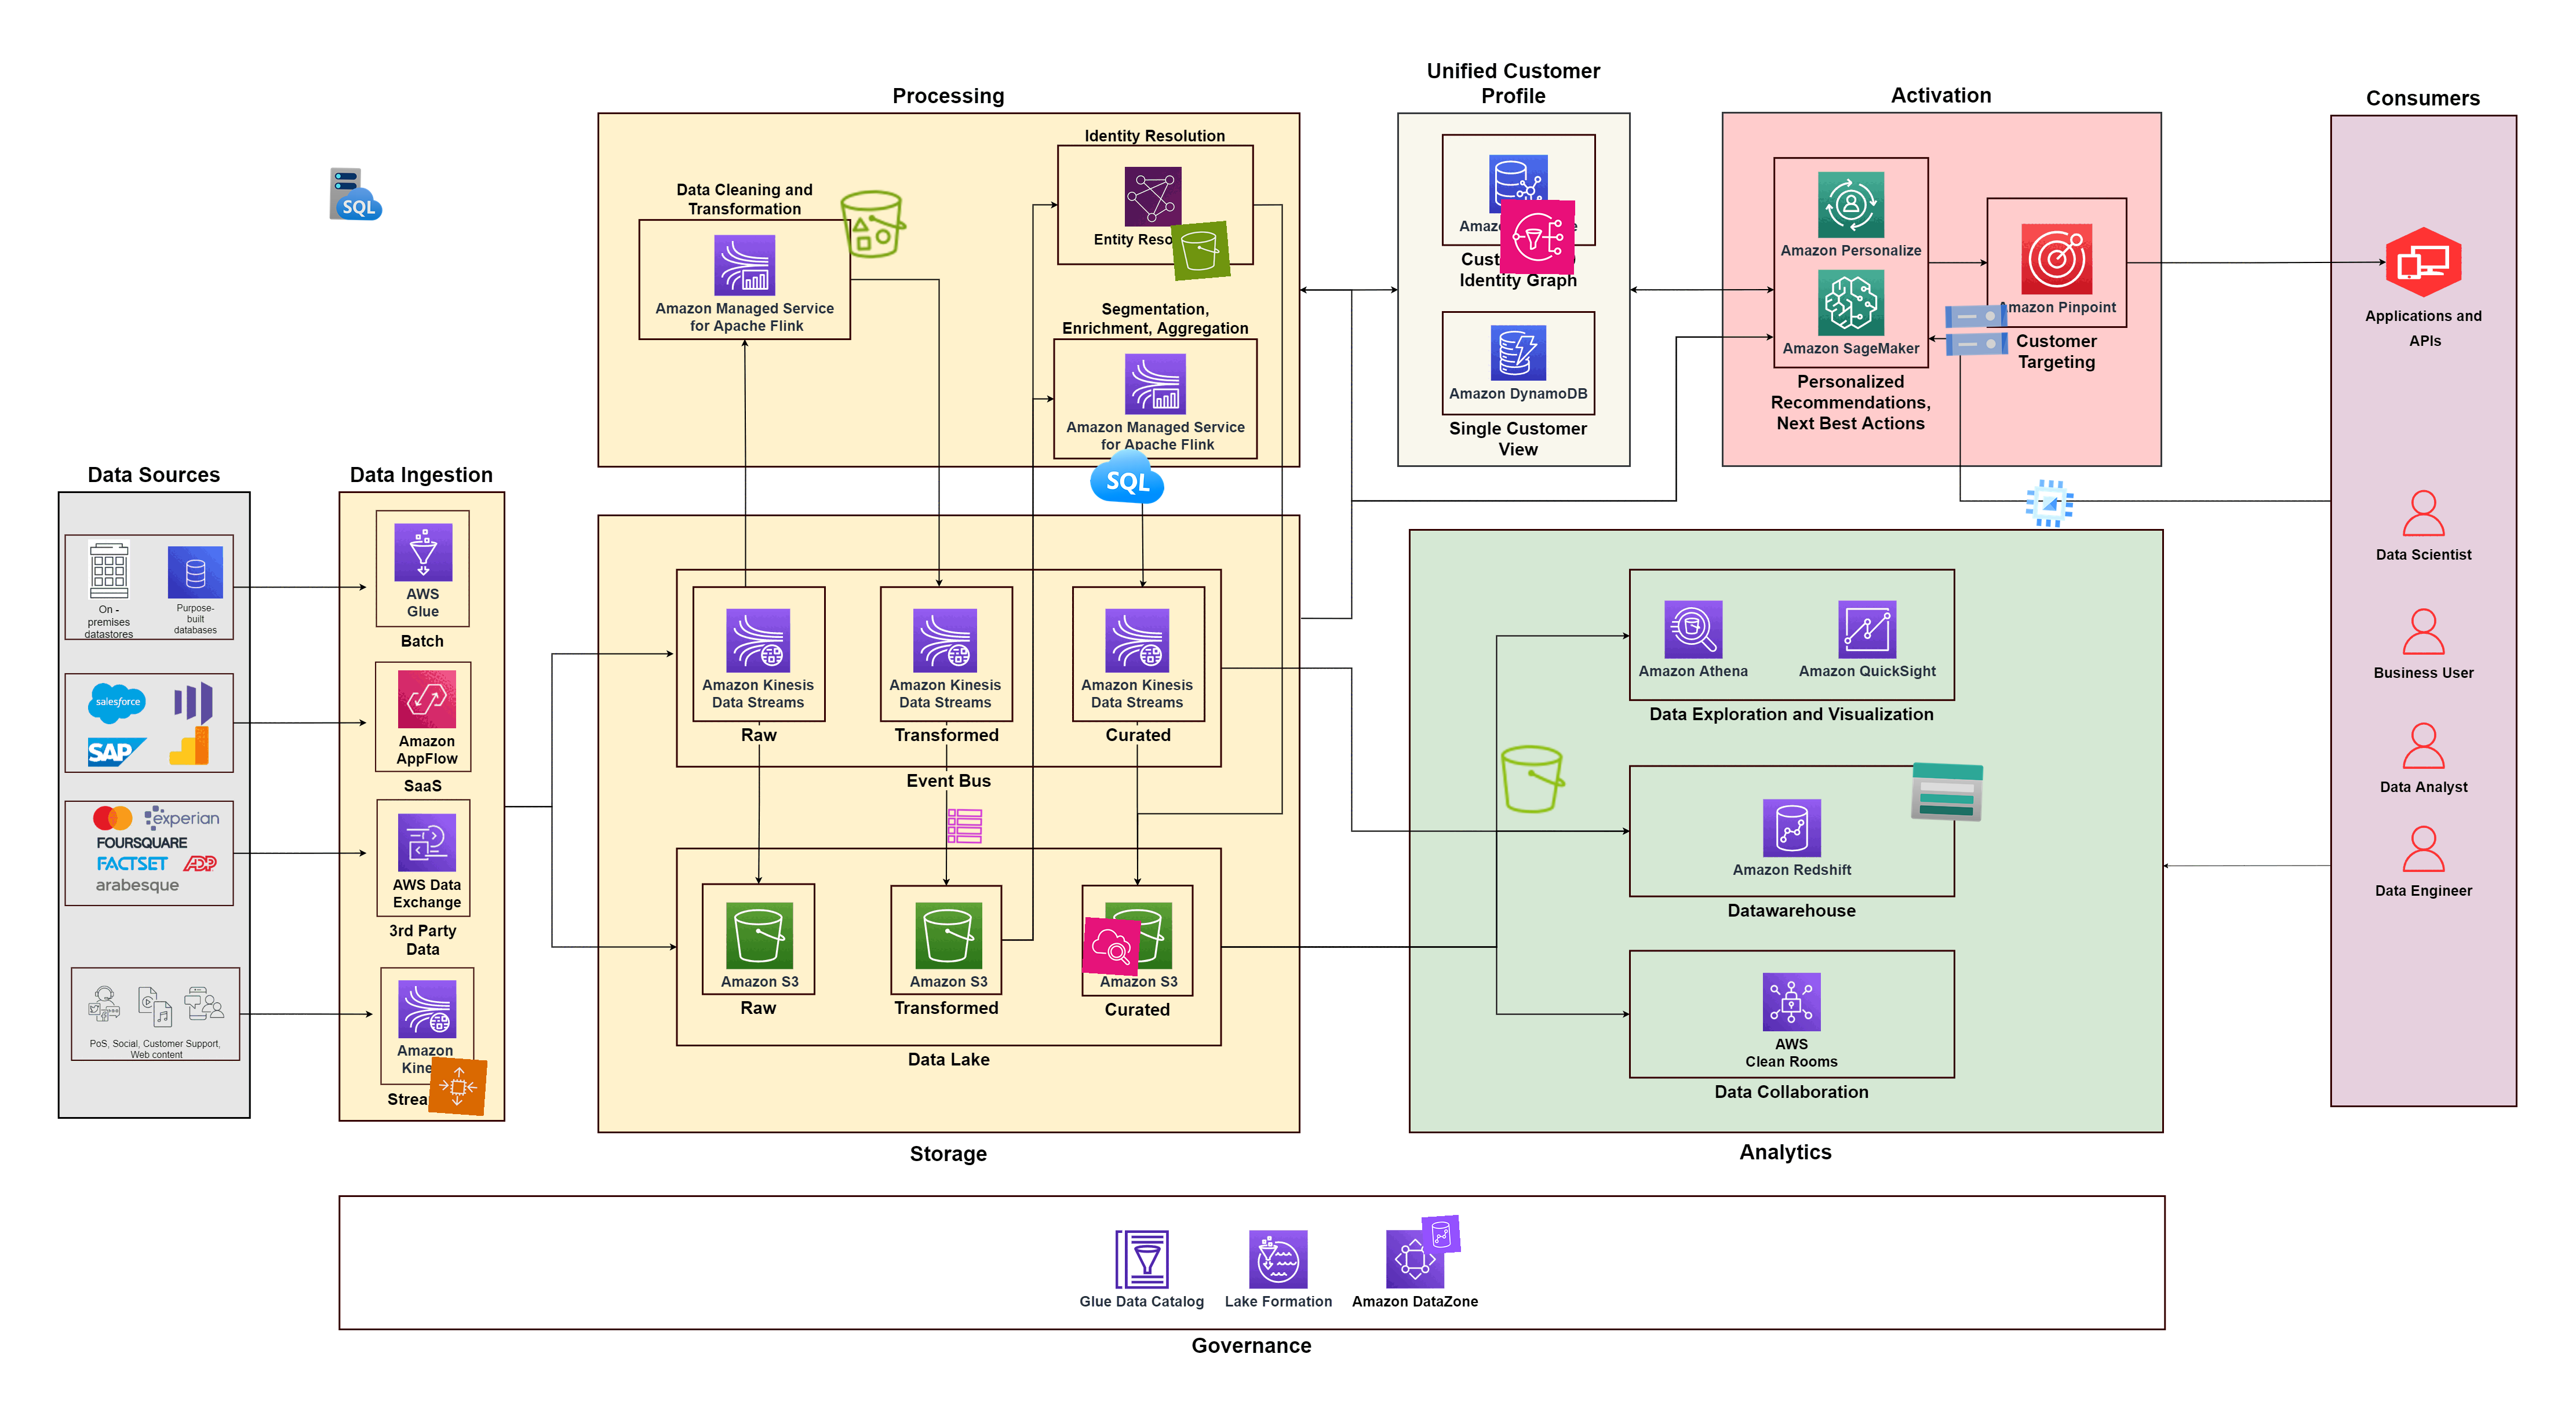aws_amazon_cloudwatch: (1081, 917, 1142, 977)
aws_amazon_ec2_auto_scaling: (427, 1057, 488, 1116)
aws_amazon_redshift: (1421, 1214, 1462, 1256)
aws_amazon_simple_notification_service: (1500, 199, 1575, 274)
aws_amazon_simple_storage_service: (1170, 221, 1231, 281)
aws_dynamodb_table: (945, 807, 984, 846)
aws_simple_storage_service_bucket: (1495, 741, 1571, 818)
aws_simple_storage_service_bucket_with_objects: (835, 185, 912, 263)
azure_sql: (1088, 438, 1169, 516)
azure_sql_managed_instance: (328, 166, 385, 223)
azure_storage_accounts: (1908, 753, 1987, 830)
gcp_cloud_storage: (1938, 291, 2014, 368)
gcp_compute_engine: (2020, 473, 2081, 534)
